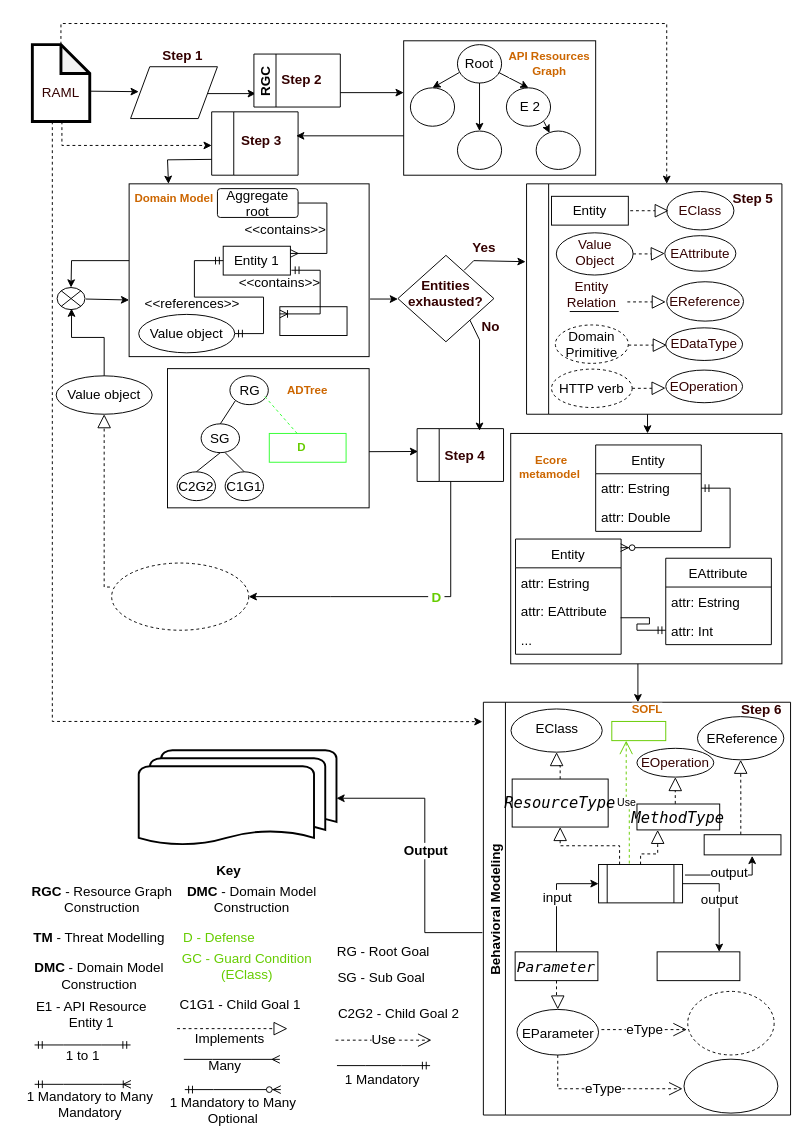
Image size: 807x1143. Some labels were removed from this diagram. Each missing label, with the box of its shape:
D = Domain primitive as security invariant: (111, 562, 249, 630)
DMC: (211, 111, 298, 175)
E 3: (456, 130, 502, 169)
E...n: (535, 130, 580, 169)
E1: (409, 87, 455, 126)
EClassifier (Domain Primitive): (687, 990, 774, 1055)
Entity 2: (279, 306, 347, 336)
GC: (611, 720, 666, 741)
MediaType: (656, 951, 740, 981)
Primitive Data Type: (683, 1058, 778, 1113)
RAML Parser: (130, 66, 217, 119)
RelationType: (703, 834, 781, 855)
RESTful Formal Security Aware SOFL Specifications: (137, 749, 337, 847)
SOFL Process: (598, 864, 683, 903)
Structural modeling: (526, 183, 782, 414)
TM: (416, 428, 504, 481)
